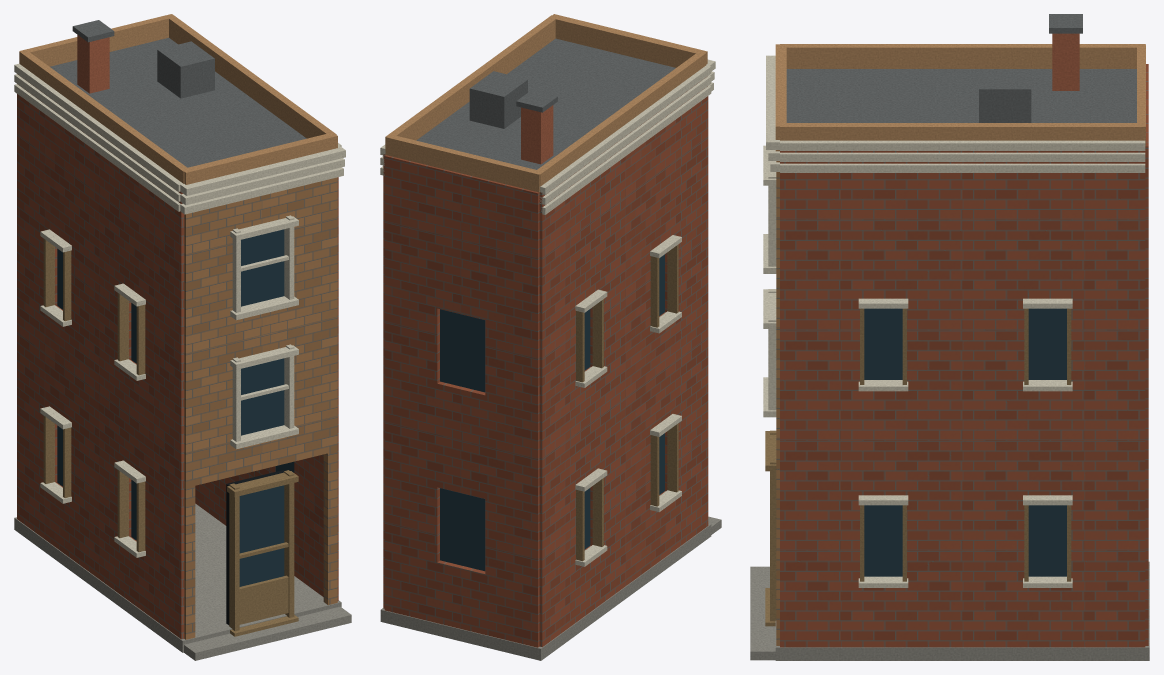
Rendered from CLSTGA18_lod2.glb.
3 views of the same model, side by side, from view 1: azimuth 30°, elevation 25°; view 2: azimuth 150°, elevation 25°; view 3: azimuth 270°, elevation 25° (orthographic). The views are drawn at different scales.
Visible parts, largest first — view 1: CLSTGA18_LOD2; view 2: CLSTGA18_LOD2; view 3: CLSTGA18_LOD2.
Boxes of the visible parts, left/top/right/bottom form: CLSTGA18_LOD2: left=14, top=14, right=351, bottom=660; CLSTGA18_LOD2: left=380, top=14, right=721, bottom=660; CLSTGA18_LOD2: left=750, top=14, right=1149, bottom=660.
Size of the model in its own units: 3.71 by 10.45 by 6.57.
Materials: 10 (8 with a texture image).
